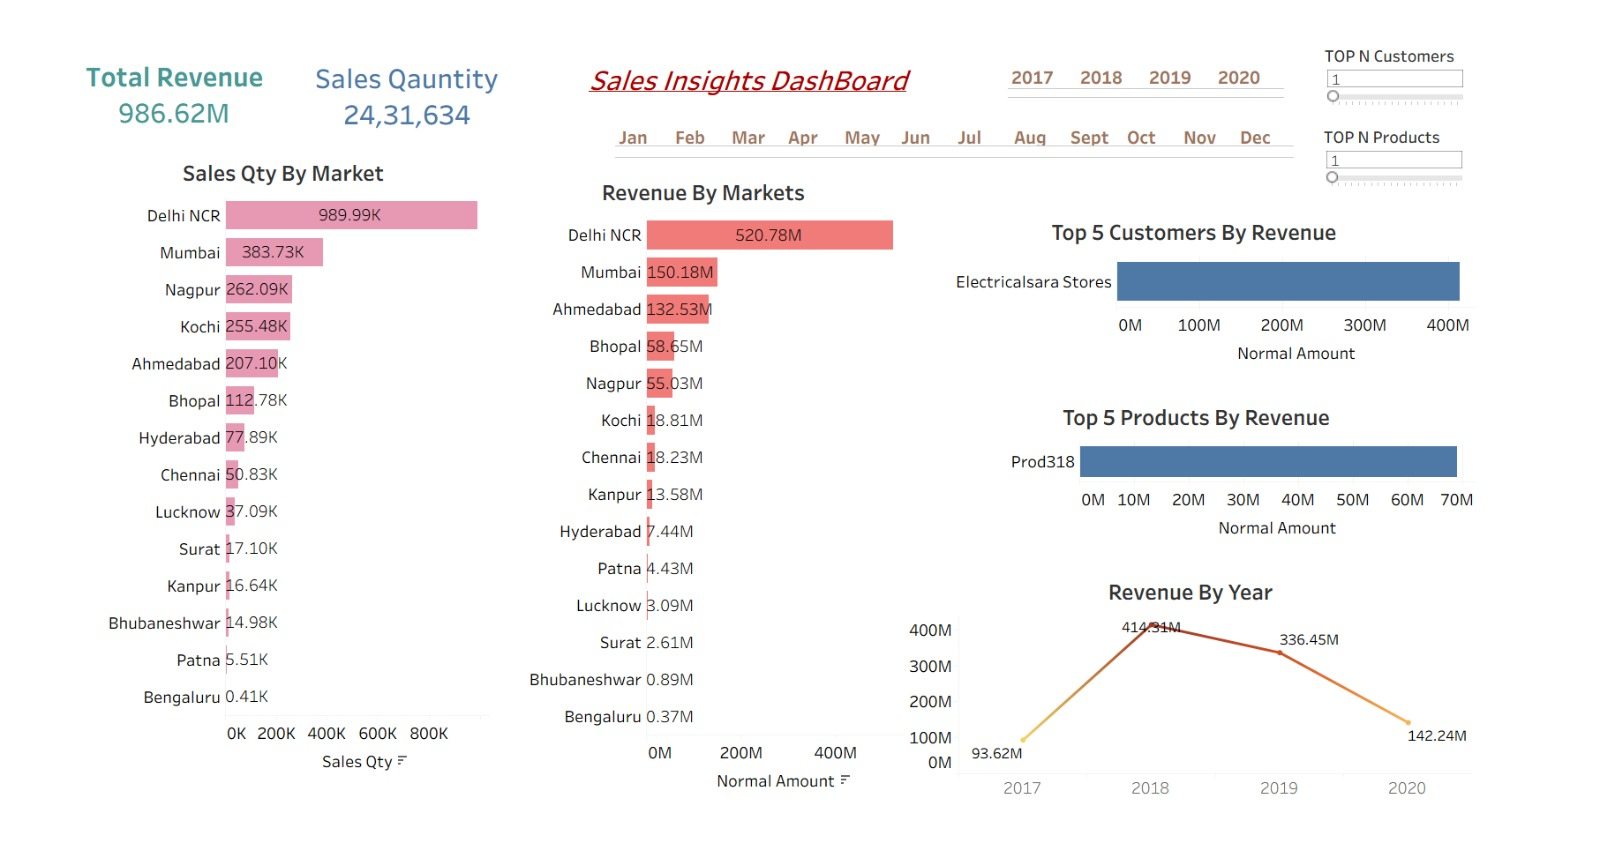

This screenshot's page, from the dashboard's own definition file:
{"tool":"tableau","page":{"name":"Sales Insights","canvas":[1600,900],"ordinal":0},"visuals":[{"type":"parameter","param":"[Parameters].[Parameter 1]","box":[1422,10,160,75]},{"type":"worksheet","title":"Revenues","mark":"Automatic","box":[9,11,232,108]},{"type":"worksheet","title":"Sales Quantity","mark":"Automatic","box":[253,13,263,100]},{"type":"text","box":[527,19,488,62]},{"type":"worksheet","title":"Year","mark":"Automatic","cols":["cy_date"],"box":[1063,19,347,69]},{"type":"worksheet","title":"Month","mark":"Automatic","cols":["cy_date"],"box":[618,90,782,66]},{"type":"parameter","param":"[Parameters].[Parameter 2]","box":[1421,102,160,75]},{"type":"worksheet","title":"Sales Qty By Market","mark":"Automatic","rows":["markets_name"],"cols":["sales_qty"],"box":[8,135,468,754]},{"type":"worksheet","title":"Revenue By Markets","mark":"Automatic","rows":["markets_name"],"cols":["Calculation_0473078848524288"],"box":[489,157,458,732]},{"type":"worksheet","title":"Top 5 Customer","mark":"Automatic","rows":["custmer_name"],"cols":["Calculation_0473078848524288"],"box":[954,202,640,188]},{"type":"worksheet","title":"Top 5 Product","mark":"Automatic","rows":["product_code"],"cols":["Calculation_0473078848524288"],"box":[960,412,633,178]},{"type":"worksheet","title":"Revenue By Year","mark":"Automatic","rows":["Calculation_0473078848524288"],"cols":["cy_date"],"box":[951,610,638,256]}]}

Visuals, with their boxes in screenshot pixels (x1, y1, x2, y2):
parameter: x1=1498, y1=72, x2=1599, y2=140
"Revenues" worksheet: x1=216, y1=72, x2=427, y2=170
"Sales Quantity" worksheet: x1=438, y1=74, x2=676, y2=165
text: x1=686, y1=80, x2=1129, y2=136
"Year" worksheet: x1=1173, y1=80, x2=1487, y2=142
"Month" worksheet: x1=769, y1=144, x2=1478, y2=204
parameter: x1=1497, y1=155, x2=1599, y2=223
"Sales Qty By Market" worksheet: x1=216, y1=185, x2=640, y2=857
"Revenue By Markets" worksheet: x1=652, y1=205, x2=1067, y2=857
"Top 5 Customer" worksheet: x1=1074, y1=246, x2=1599, y2=416
"Top 5 Product" worksheet: x1=1079, y1=436, x2=1599, y2=598
"Revenue By Year" worksheet: x1=1071, y1=616, x2=1599, y2=848
